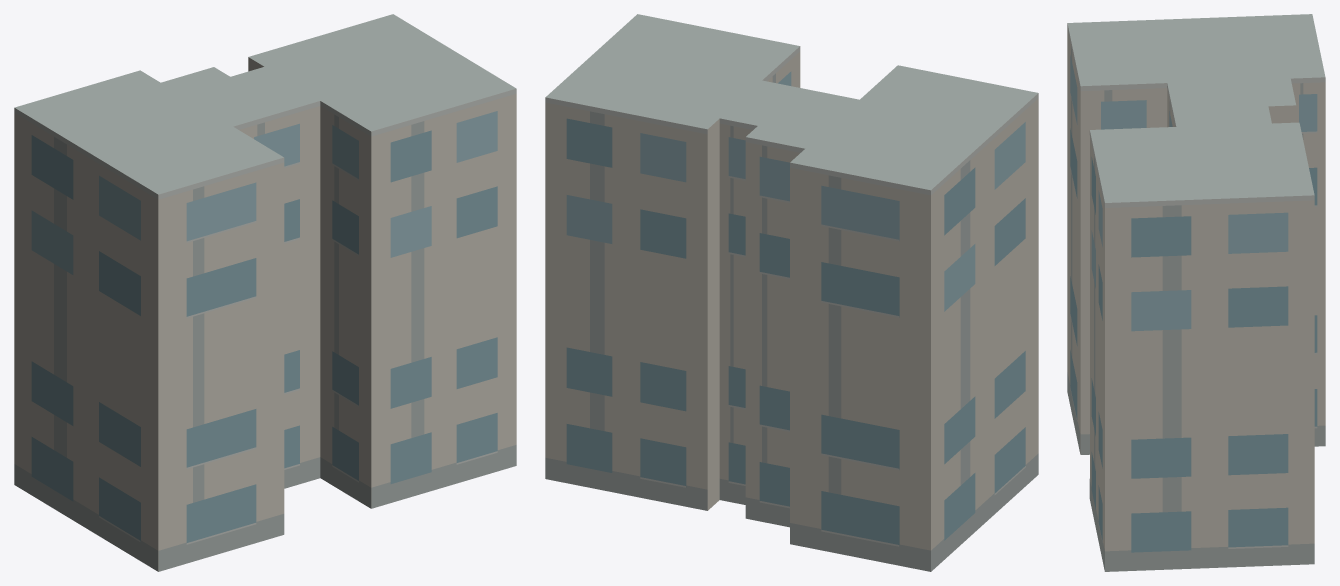
The model's file is survey-upis-32520223.glb.
3 views of the same model, side by side, from view 1: azimuth 30°, elevation 25°; view 2: azimuth 150°, elevation 25°; view 3: azimuth 270°, elevation 25° (orthographic). The views are drawn at different scales.
Parts seen in each view (by area): view 1: survey-upis-32520223.tmp; view 2: survey-upis-32520223.tmp; view 3: survey-upis-32520223.tmp.
Part boxes in pixels (bbox=[...]): survey-upis-32520223.tmp: bbox=[14, 14, 516, 571]; survey-upis-32520223.tmp: bbox=[545, 14, 1038, 571]; survey-upis-32520223.tmp: bbox=[1067, 14, 1325, 571].
Size of the model in its own units: 19.79 by 18 by 11.42.
